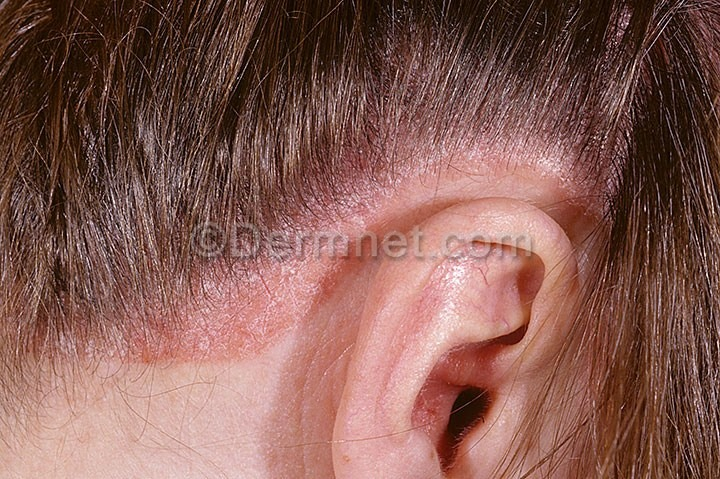Psoriasis: (55, 252, 339, 360), (287, 146, 421, 241)
